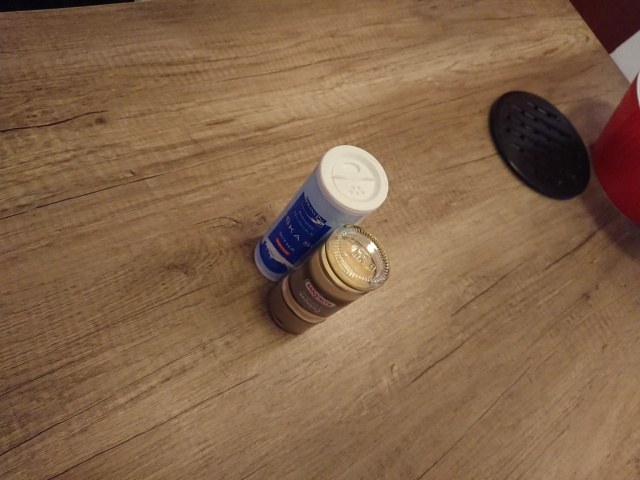Kotanyi Garlic Granules 70g: (262, 222, 393, 337)
Solana Pag Fine Sea Salt 250g: (252, 142, 390, 286)
